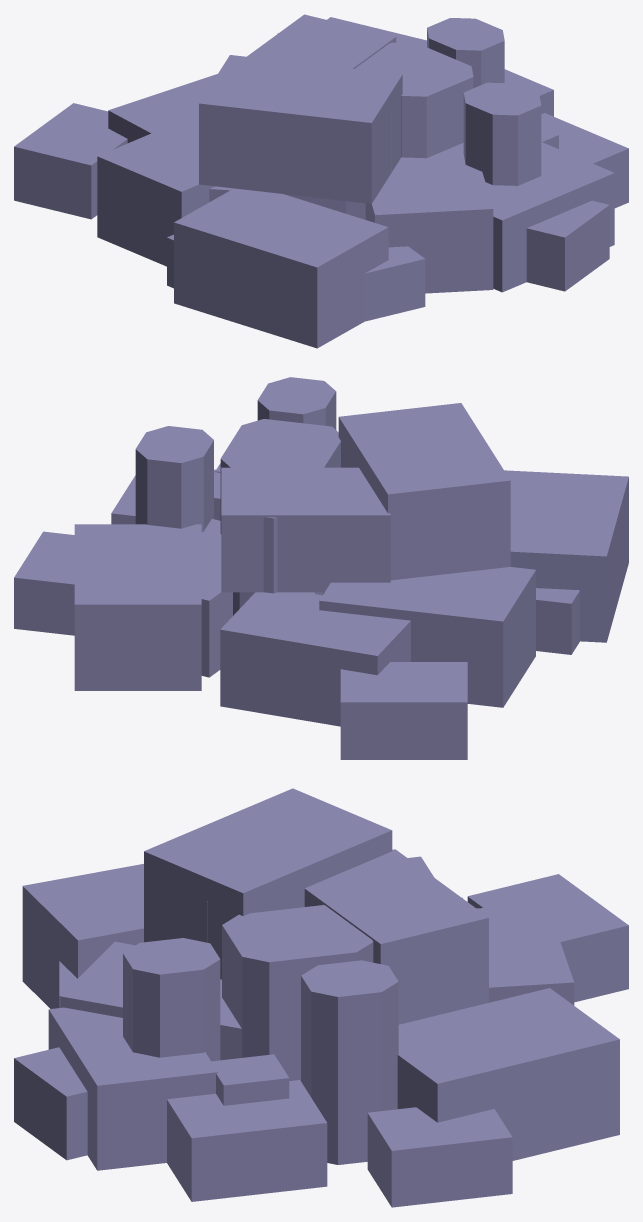
File: L1_Roca3.obj
The picture shows the model from 3 angles, top to bottom: view 1: azimuth 30°, elevation 25°; view 2: azimuth 150°, elevation 25°; view 3: azimuth 270°, elevation 25°; orthographic projection. The views are drawn at different scales.
Parts seen in each view (by area): view 1: debris_stone, floor_detail; view 2: debris_stone, floor_detail; view 3: debris_stone, floor_detail.
Boxes of the visible parts, x1,y1,x2,y2 form: debris_stone: [14, 14, 628, 348]; floor_detail: [277, 18, 558, 219]; debris_stone: [14, 403, 628, 759]; floor_detail: [135, 377, 340, 615]; debris_stone: [14, 788, 628, 1207]; floor_detail: [123, 897, 462, 1164].
Bounding box in the file's own units: 19.73 × 6.51 × 19.
